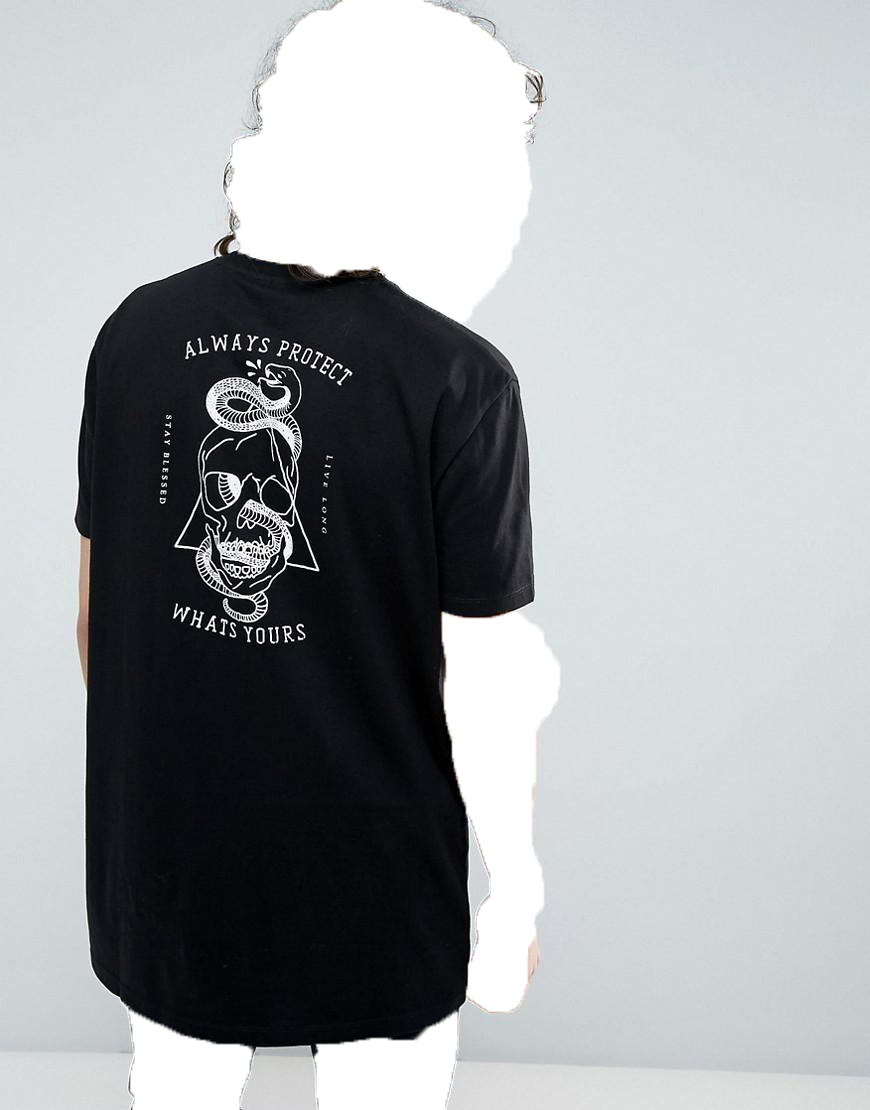teeshirt: (64, 256, 546, 1044)
